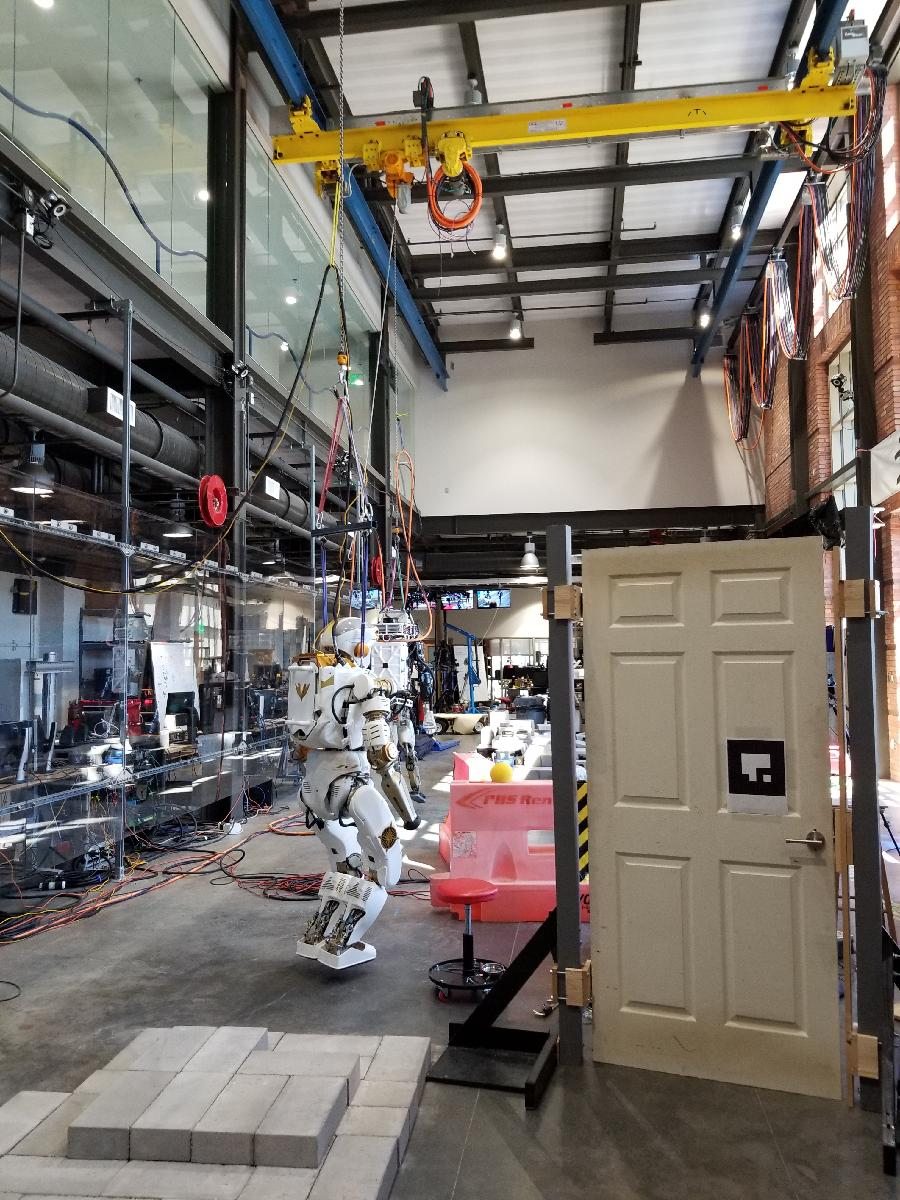door: (577, 533, 846, 1110)
doorHandle: (782, 824, 834, 863)
